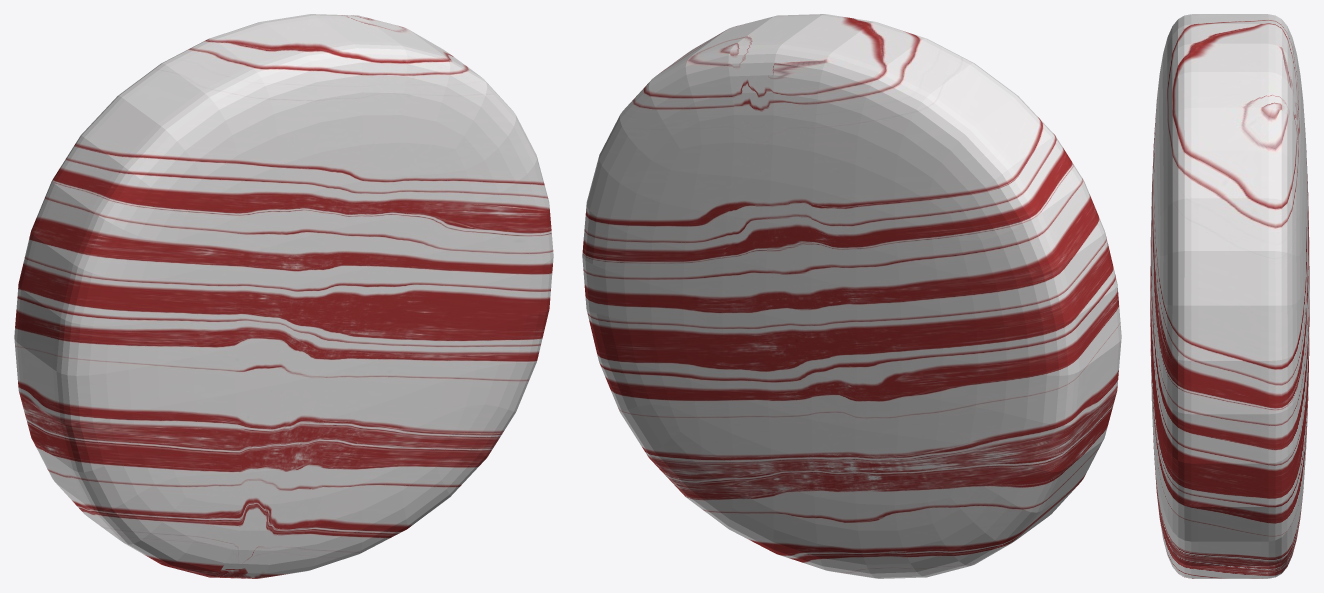
Rendered from Candy.fbx.
3 views of the same model, side by side, from view 1: azimuth 30°, elevation 25°; view 2: azimuth 150°, elevation 25°; view 3: azimuth 270°, elevation 25° (orthographic). The views are drawn at different scales.
Visible parts, largest first — view 1: Candy; view 2: Candy; view 3: Candy.
Part boxes in pixels (left/top/right/bottom): Candy: left=14, top=14, right=553, bottom=578; Candy: left=582, top=14, right=1121, bottom=578; Candy: left=1150, top=14, right=1309, bottom=578.
Size of the model in its own units: 1.83 by 1.83 by 0.5239.
